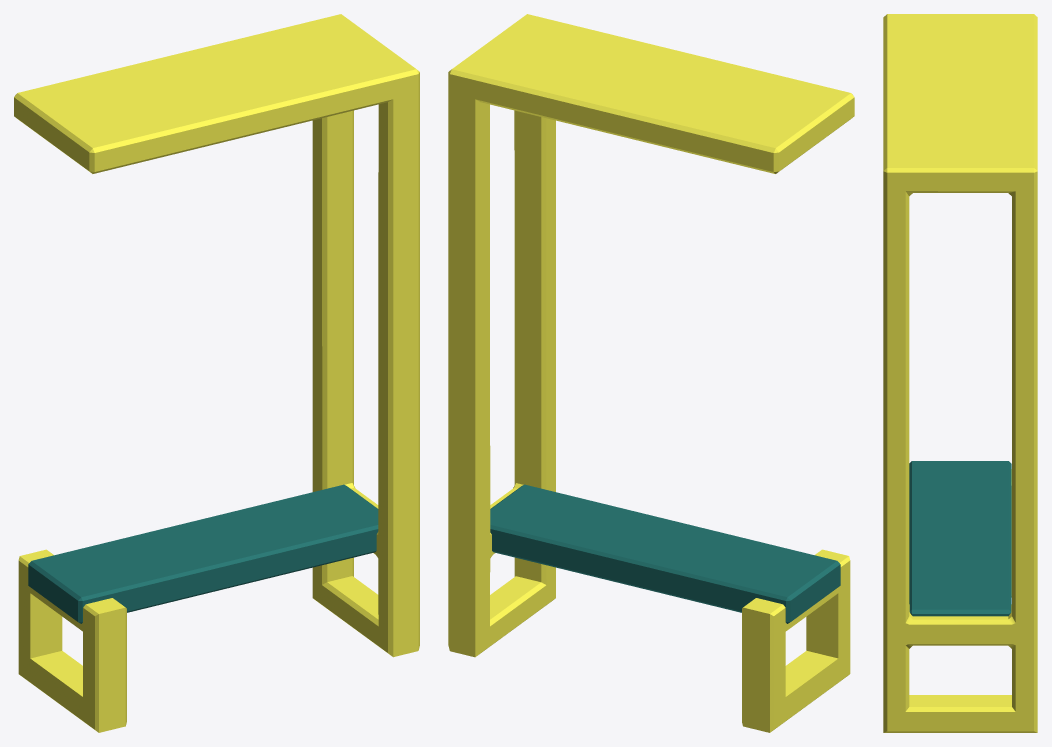
File: SM_City_Bench1.fbx
3 views of the same model, side by side, from view 1: azimuth 30°, elevation 25°; view 2: azimuth 150°, elevation 25°; view 3: azimuth 270°, elevation 25° (orthographic). The views are drawn at different scales.
Visible parts, largest first — view 1: SM_City_Bench1; view 2: SM_City_Bench1; view 3: SM_City_Bench1.
Boxes of the visible parts, <box> form: SM_City_Bench1: <box>14,14,419,732</box>; SM_City_Bench1: <box>448,14,854,732</box>; SM_City_Bench1: <box>883,14,1037,732</box>.
Size of the model in its own units: 150 by 253 by 62.38.
